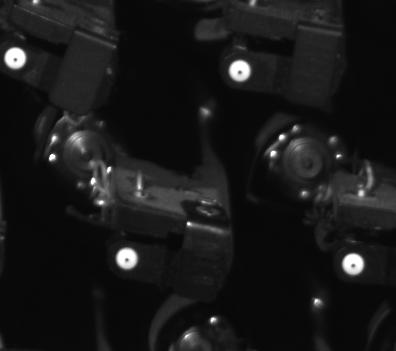fiber: (335, 250, 369, 279), (1, 42, 31, 74), (111, 244, 143, 274), (225, 57, 255, 86)
